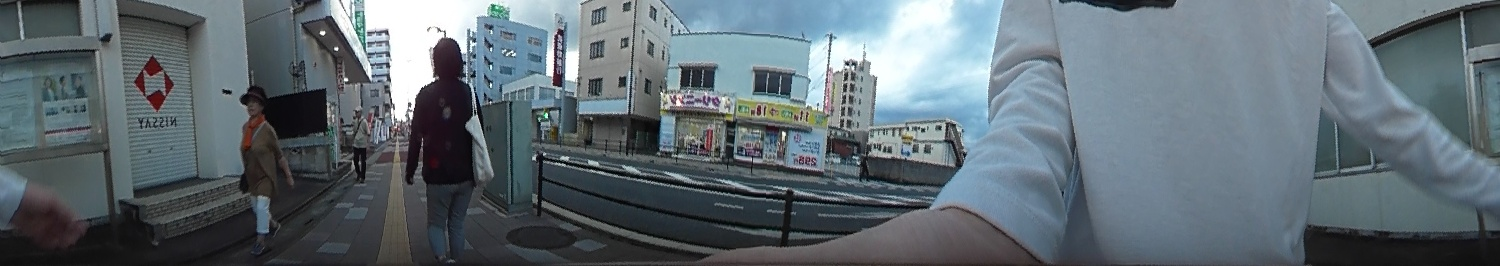difficult_person: (857, 149, 871, 179)
person: (404, 35, 481, 263), (230, 83, 287, 249), (348, 105, 369, 184)
